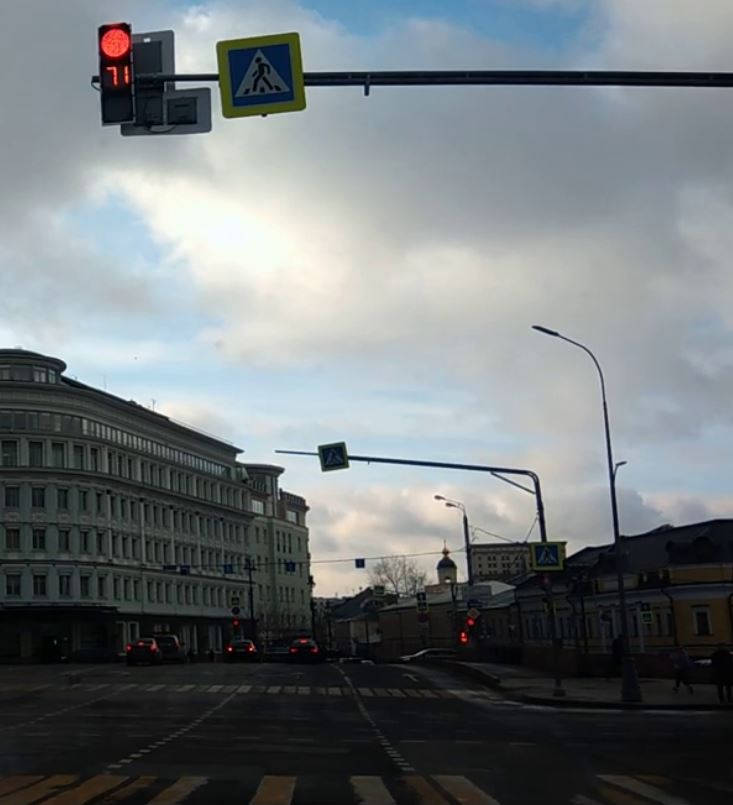Yaya Gecidi: (227, 46, 289, 107)
